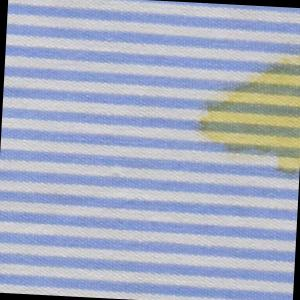Oil Stain: (192, 49, 300, 177)
